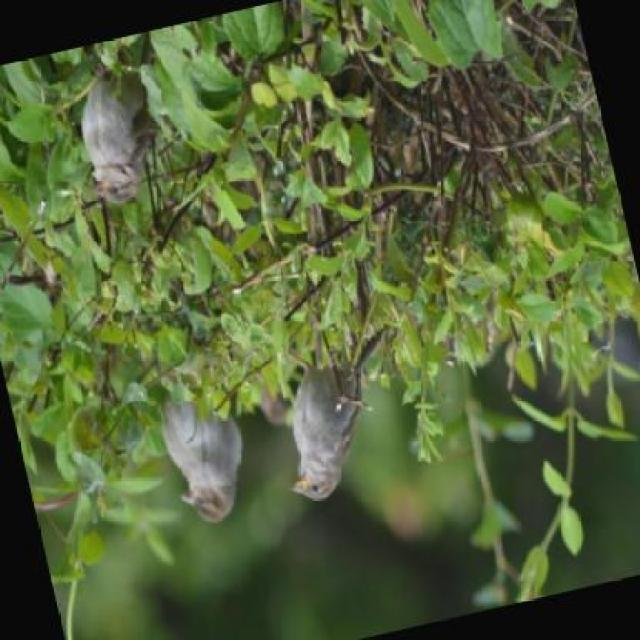Bird: (271, 349, 373, 505), (162, 361, 246, 532), (71, 87, 153, 217)
